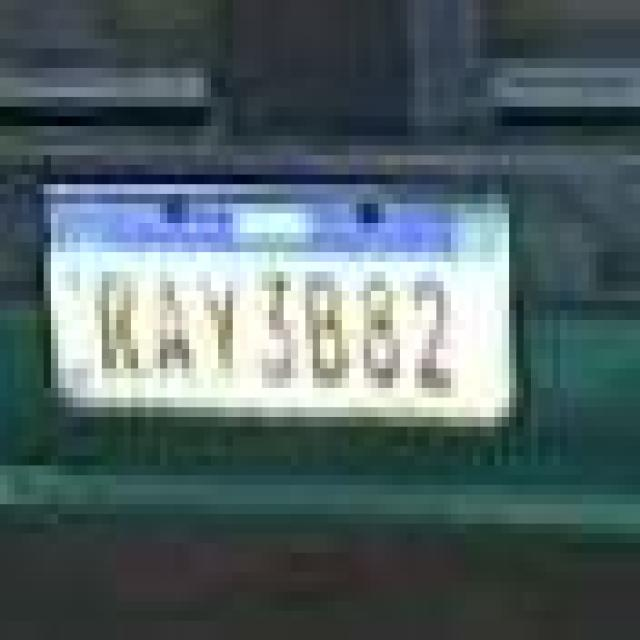3: (254, 268, 304, 386)
8: (352, 265, 407, 392), (298, 265, 354, 389)
A: (148, 268, 197, 385)
R: (91, 262, 147, 380)
Y: (196, 266, 245, 379)
